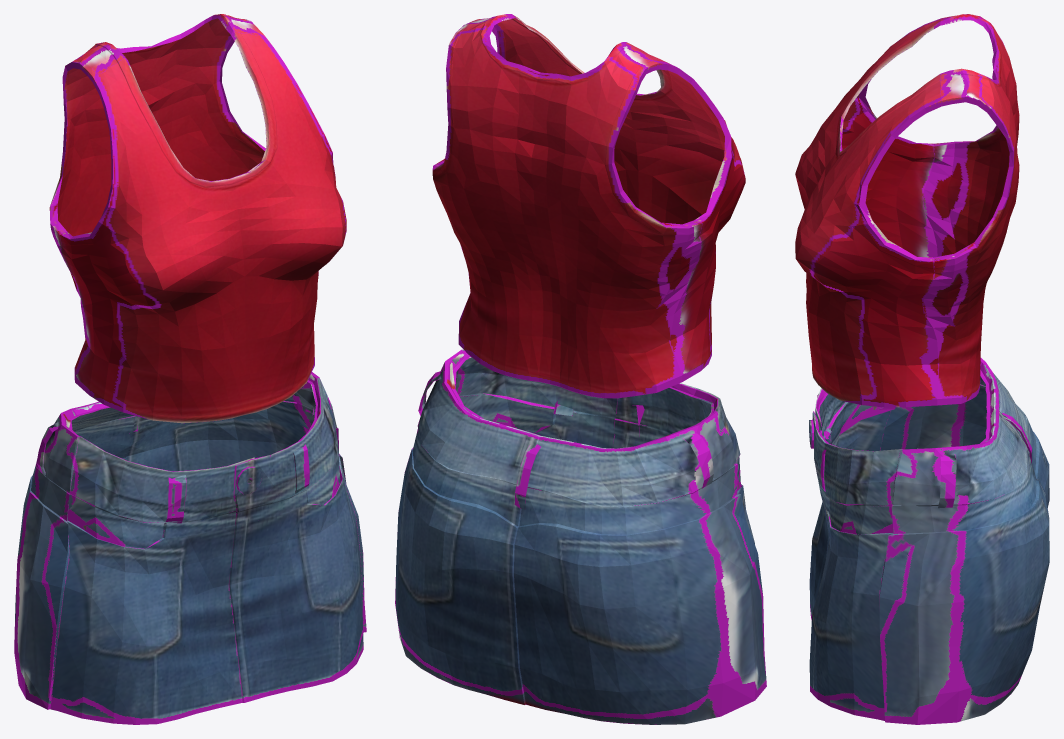
3 views of the same model, side by side, from view 1: azimuth 30°, elevation 25°; view 2: azimuth 150°, elevation 25°; view 3: azimuth 270°, elevation 25° (orthographic). The views are drawn at different scales.
Bounding box in the file's own units: 0.5704 × 1.02 × 0.3842.
Materials: 1 (1 with a texture image).
